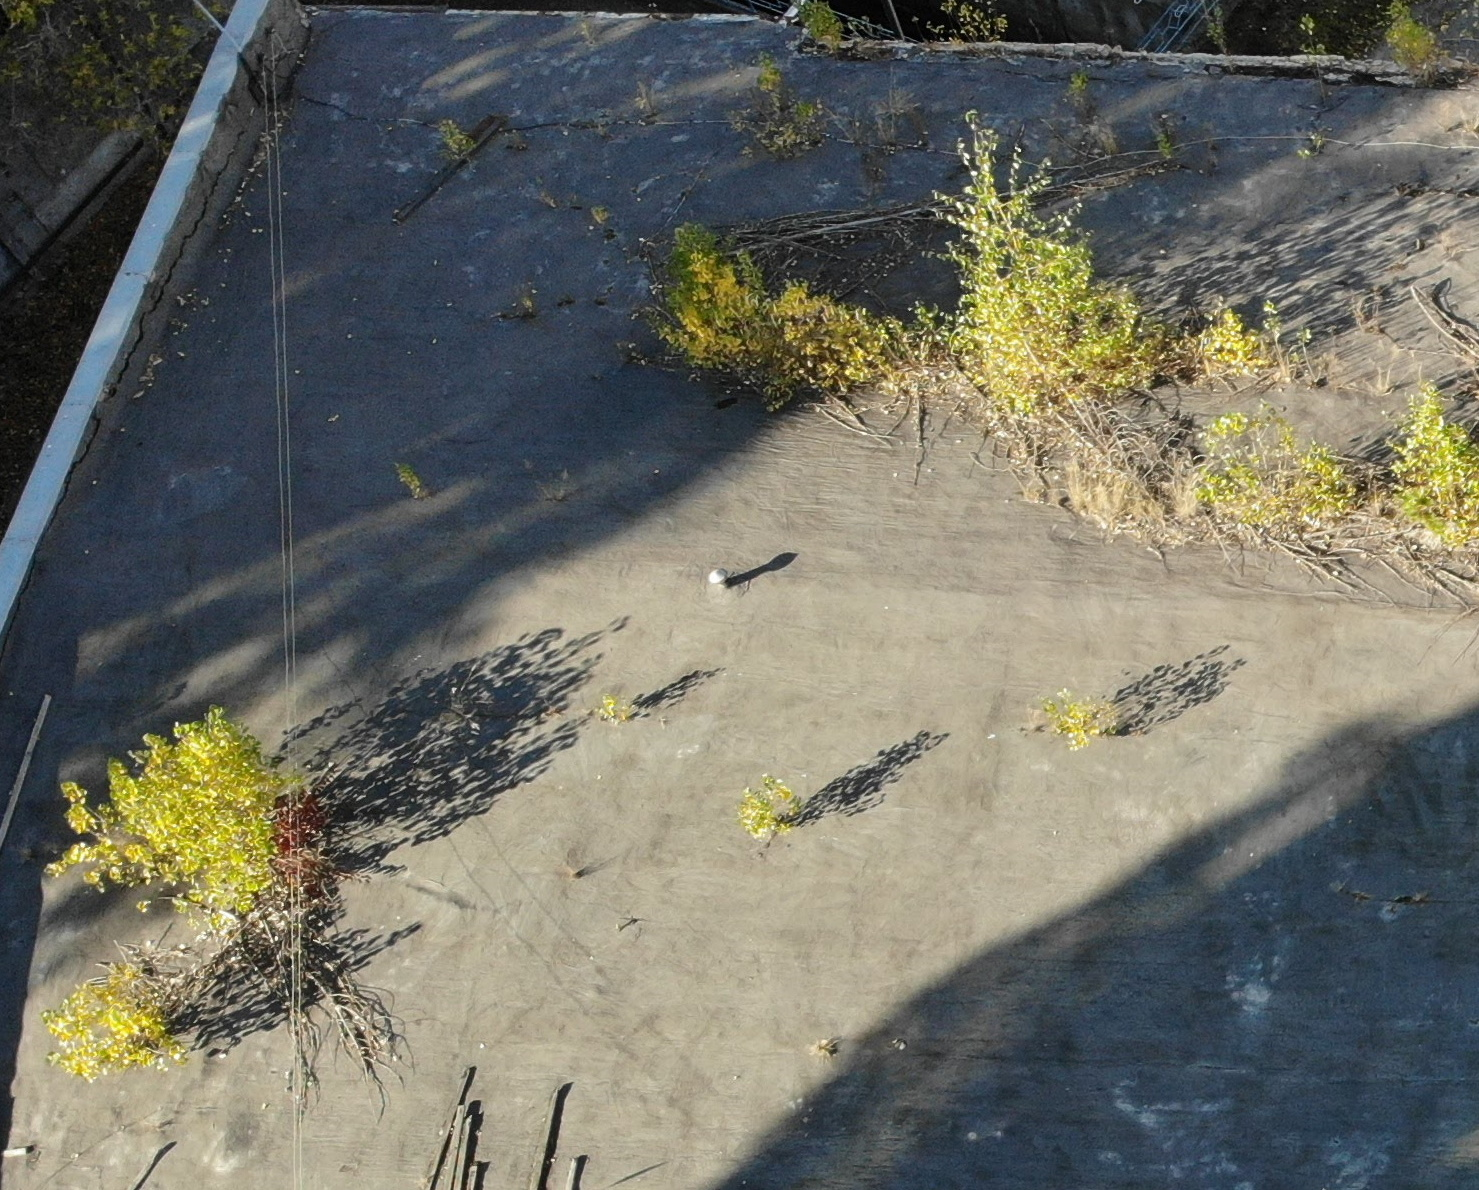tree: (903, 120, 1162, 470), (627, 194, 916, 433), (108, 687, 333, 962), (41, 924, 198, 1098), (1222, 375, 1333, 559), (1381, 365, 1464, 559), (1011, 673, 1127, 784), (721, 53, 828, 170), (742, 765, 810, 875)
